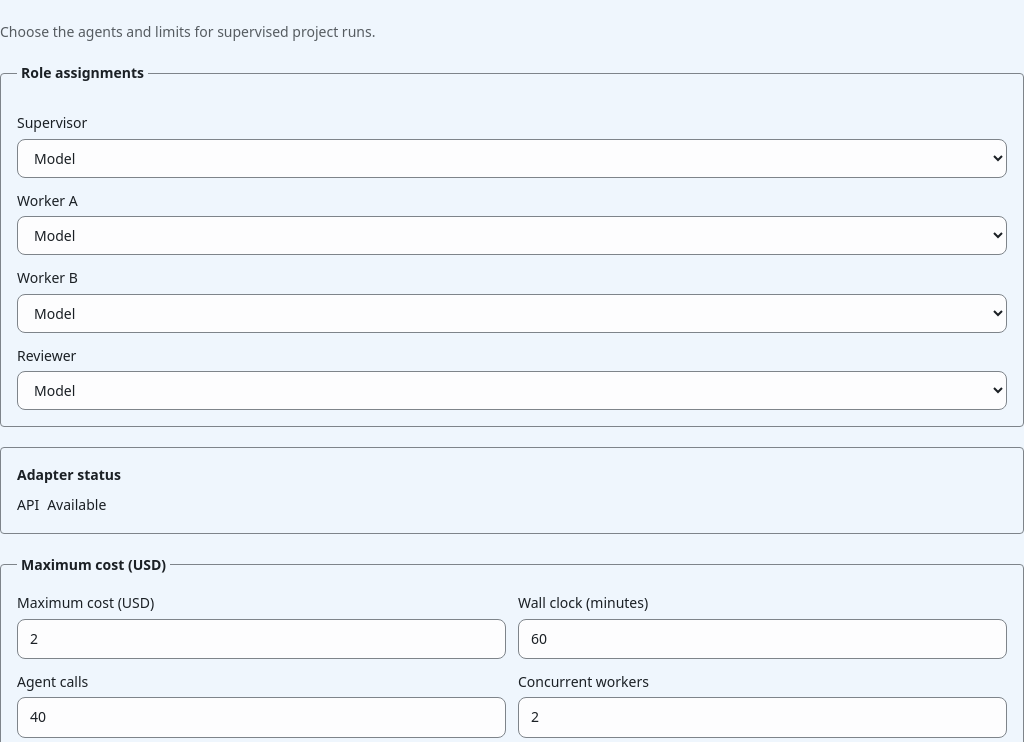
Test: ORCH-018 orchestration settings › rejects invalid values inline and confirms a valid save
The width and height of the screenshot is (1024, 742).
Replace the text in the number field labelled "Concurrent workers" with "5" at (762, 718), box [518,697,1007,738]
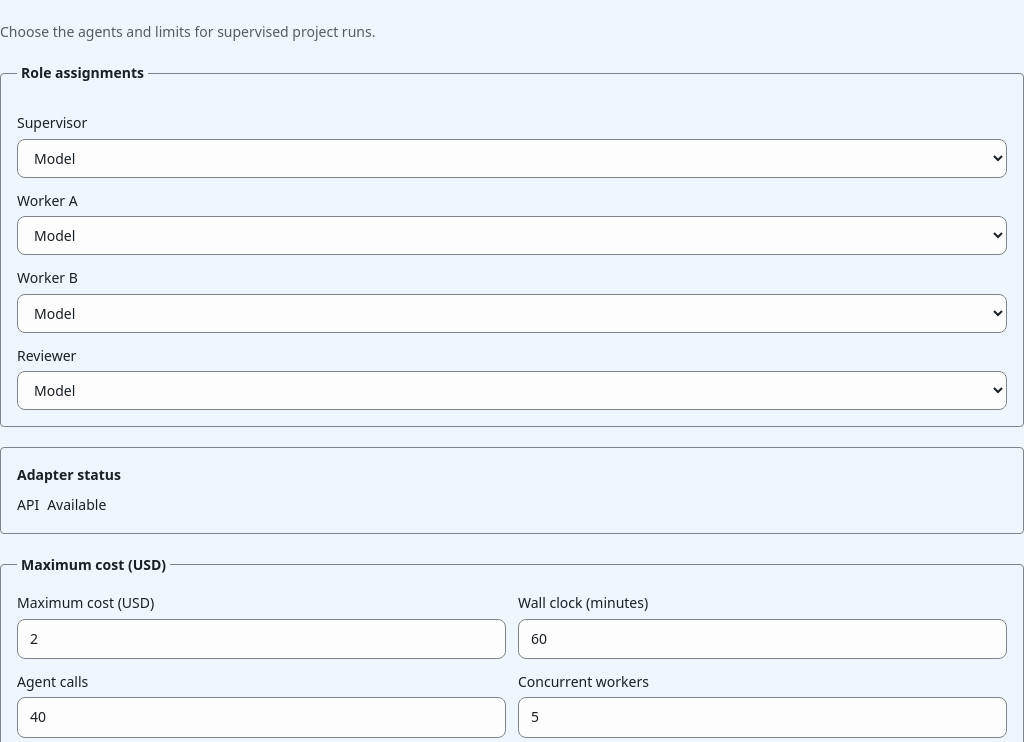
Replace the text in the number field labelled "Concurrent workers" with "3" at (762, 718), box [518,697,1007,738]
(page scrolled)
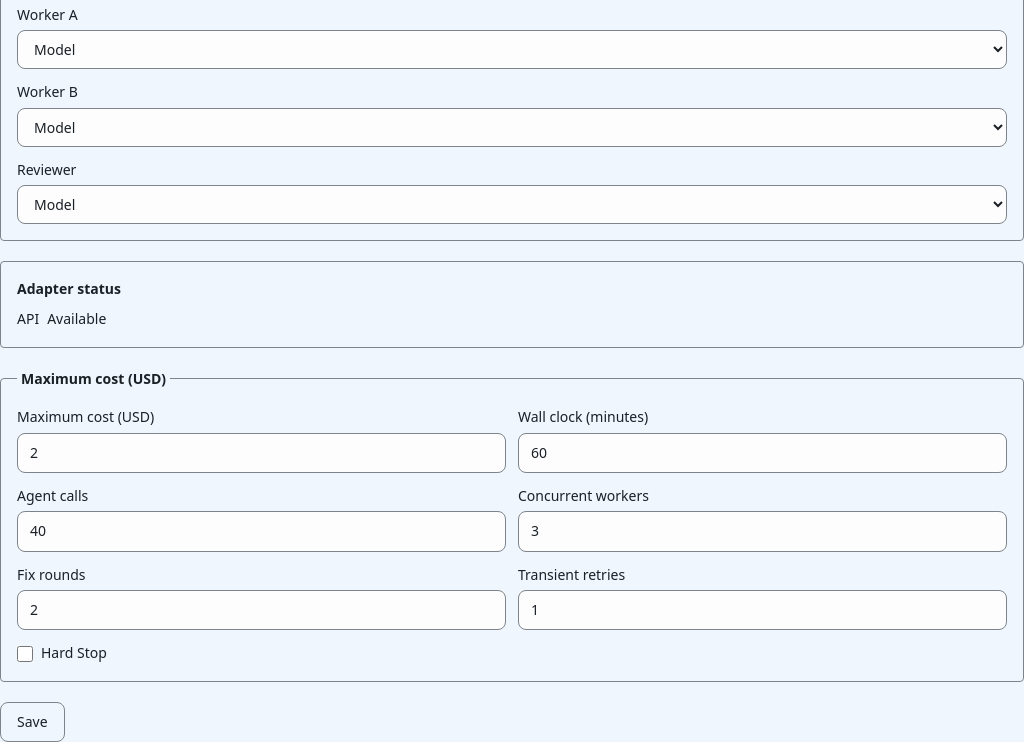
Click the button "Save" at (32, 722), box [0,702,65,741]
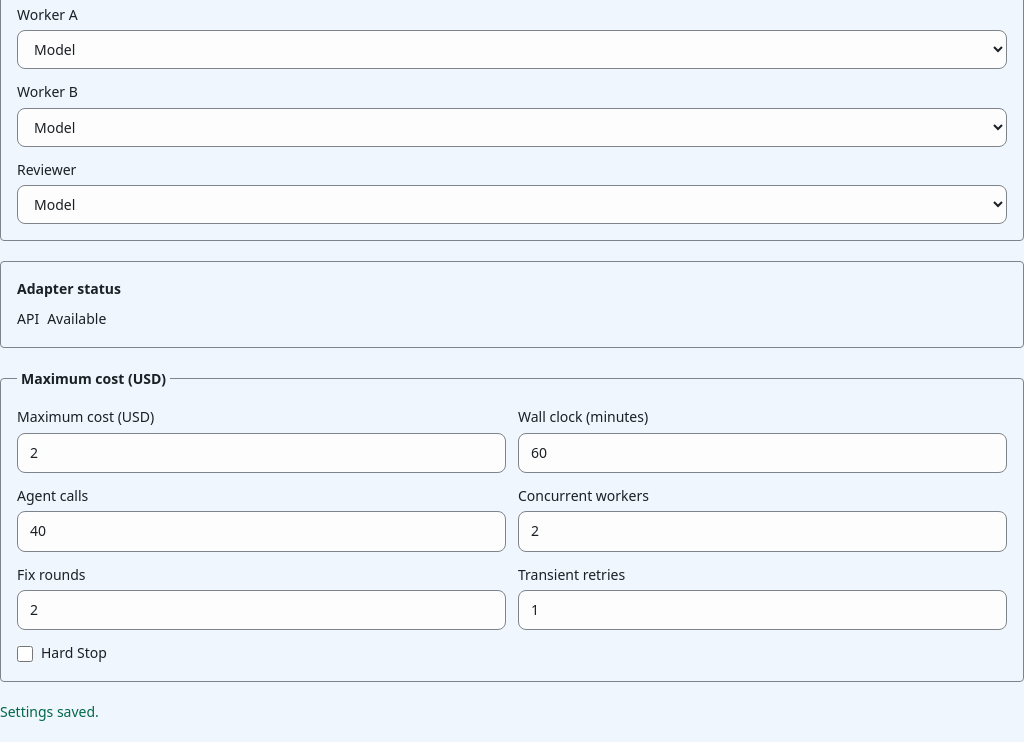
Expected: the text "Settings saved." is shown, [0,702,99,721]
